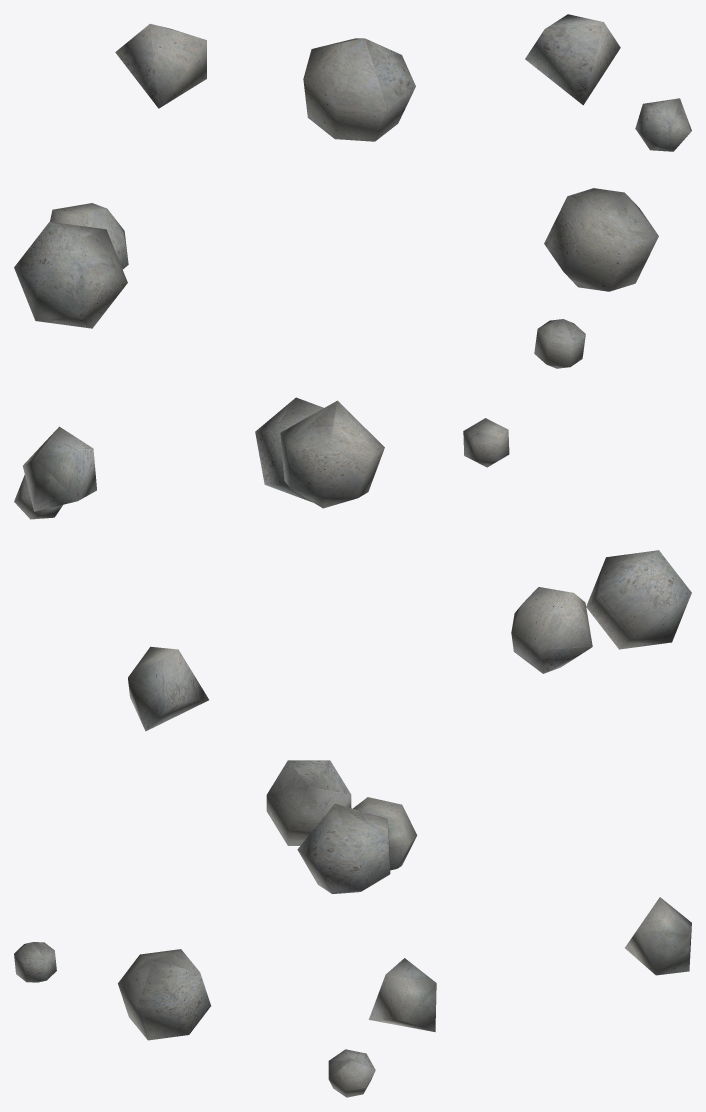
Rendered from stone7.obj.
The picture shows the model from 3 angles, top to bottom: view 1: azimuth 30°, elevation 25°; view 2: azimuth 150°, elevation 25°; view 3: azimuth 270°, elevation 25°; orthographic projection. The views are drawn at different scales.
Parts seen in each view (by area): view 1: Sphere005, Sphere001, Sphere008, Sphere003, Sphere007, Sphere006, Sphere002, Sphere004; view 2: Sphere005, Sphere001, Sphere004, Sphere007, Sphere003, Sphere008, Sphere002, Sphere006; view 3: Sphere008, Sphere005, Sphere001, Sphere007, Sphere003, Sphere004, Sphere006, Sphere002.
Part boxes in pixels (<box>): Sphere005: <box>303,38,415,141</box>; Sphere001: <box>14,221,127,328</box>; Sphere008: <box>544,188,658,291</box>; Sphere003: <box>525,14,620,105</box>; Sphere007: <box>115,23,206,108</box>; Sphere006: <box>635,98,691,151</box>; Sphere002: <box>534,319,585,368</box>; Sphere004: <box>50,203,128,269</box>; Sphere005: <box>280,400,384,508</box>; Sphere001: <box>586,550,691,649</box>; Sphere004: <box>511,587,592,673</box>; Sphere007: <box>128,646,208,731</box>; Sphere003: <box>23,426,96,511</box>; Sphere008: <box>255,397,323,502</box>; Sphere002: <box>463,418,509,467</box>; Sphere006: <box>14,474,62,519</box>; Sphere008: <box>118,949,210,1040</box>; Sphere005: <box>297,804,390,893</box>; Sphere001: <box>266,760,351,845</box>; Sphere007: <box>625,897,691,975</box>; Sphere003: <box>368,958,436,1032</box>; Sphere004: <box>353,797,417,870</box>; Sphere006: <box>328,1049,375,1097</box>; Sphere002: <box>14,942,56,982</box>.
Bounding box in the file's own units: 197 × 57.45 × 200.
Materials: 1 (1 with a texture image).
